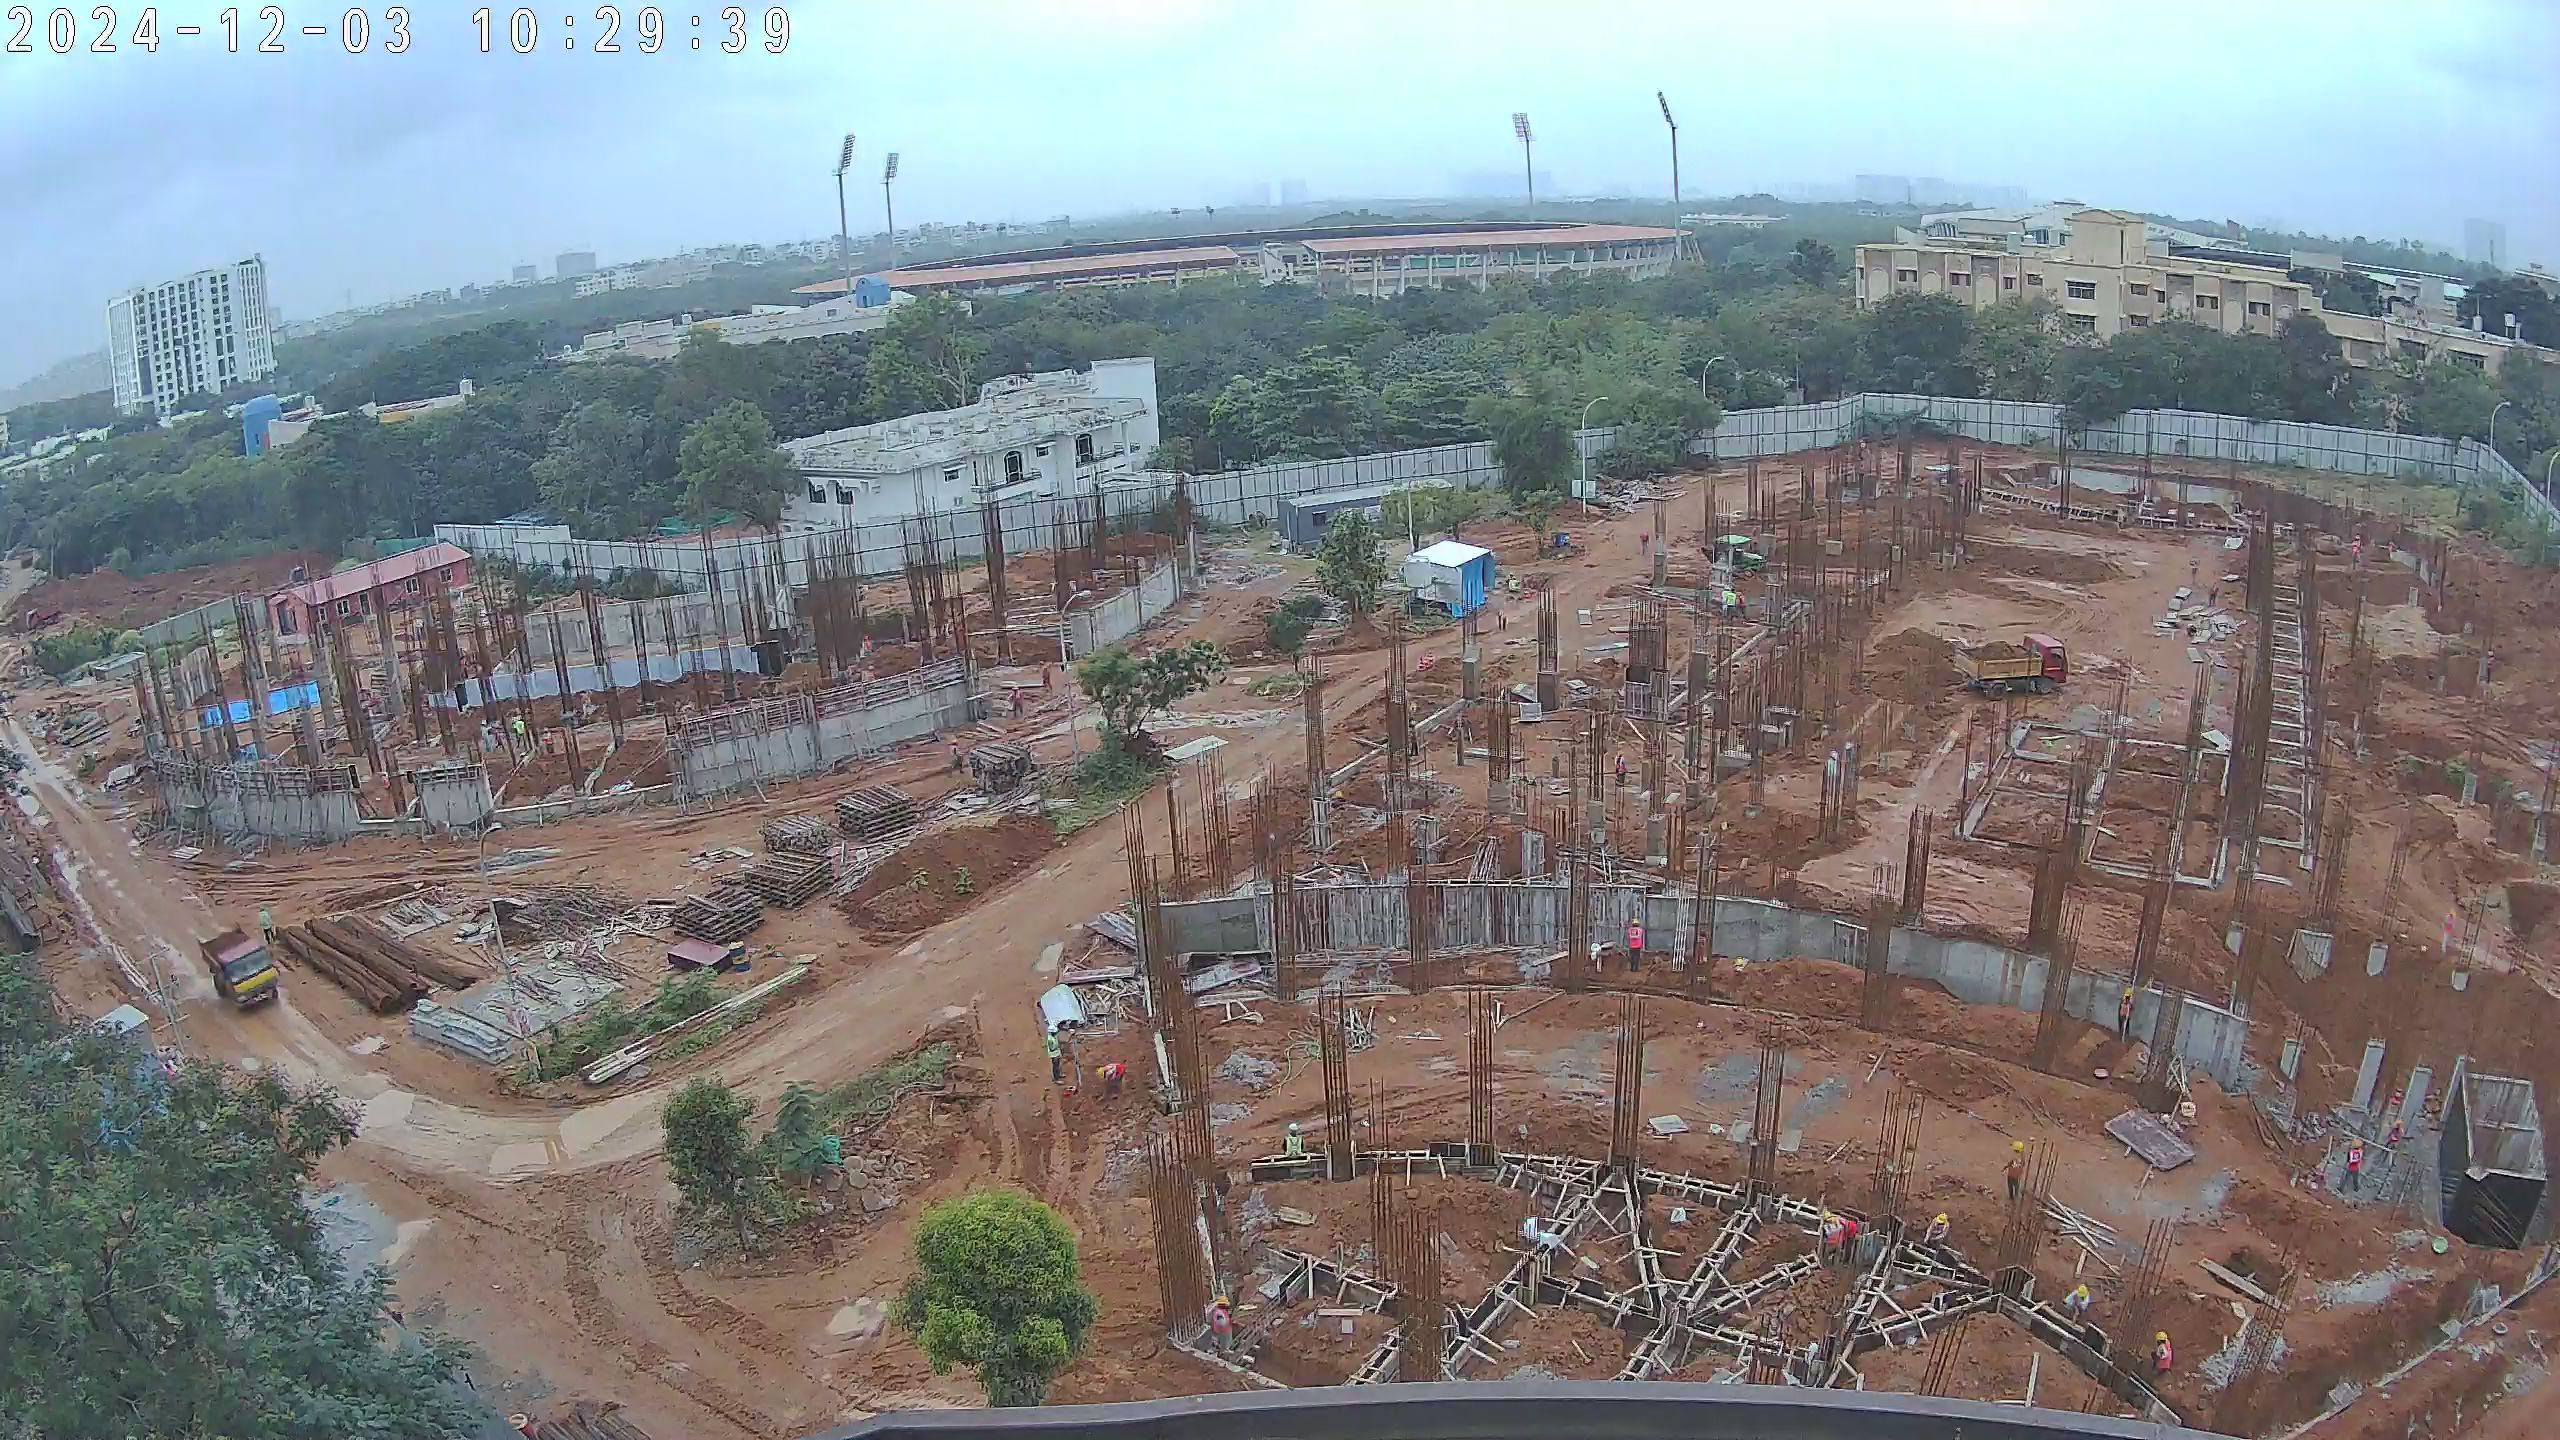bulldozer: (1701, 527, 1779, 586)
truck: (1950, 629, 2072, 704), (197, 922, 281, 1018)
worker: (2053, 1263, 2096, 1333), (1820, 1206, 1862, 1272), (1922, 1204, 1959, 1259), (1204, 1293, 1233, 1356), (2149, 1327, 2174, 1395), (1999, 1141, 2022, 1208), (2114, 981, 2134, 1050), (253, 903, 282, 949), (2339, 1141, 2364, 1187), (1622, 916, 1645, 964), (1608, 745, 1631, 791), (1093, 1064, 1127, 1095), (510, 705, 530, 757), (1039, 1025, 1058, 1072), (1035, 659, 1055, 702), (2184, 551, 2203, 591), (1009, 683, 1027, 724), (478, 715, 496, 755), (2381, 1120, 2402, 1154), (1637, 527, 1655, 562), (2205, 581, 2223, 613), (541, 726, 559, 755), (1734, 588, 1751, 616), (1726, 587, 1738, 617)
